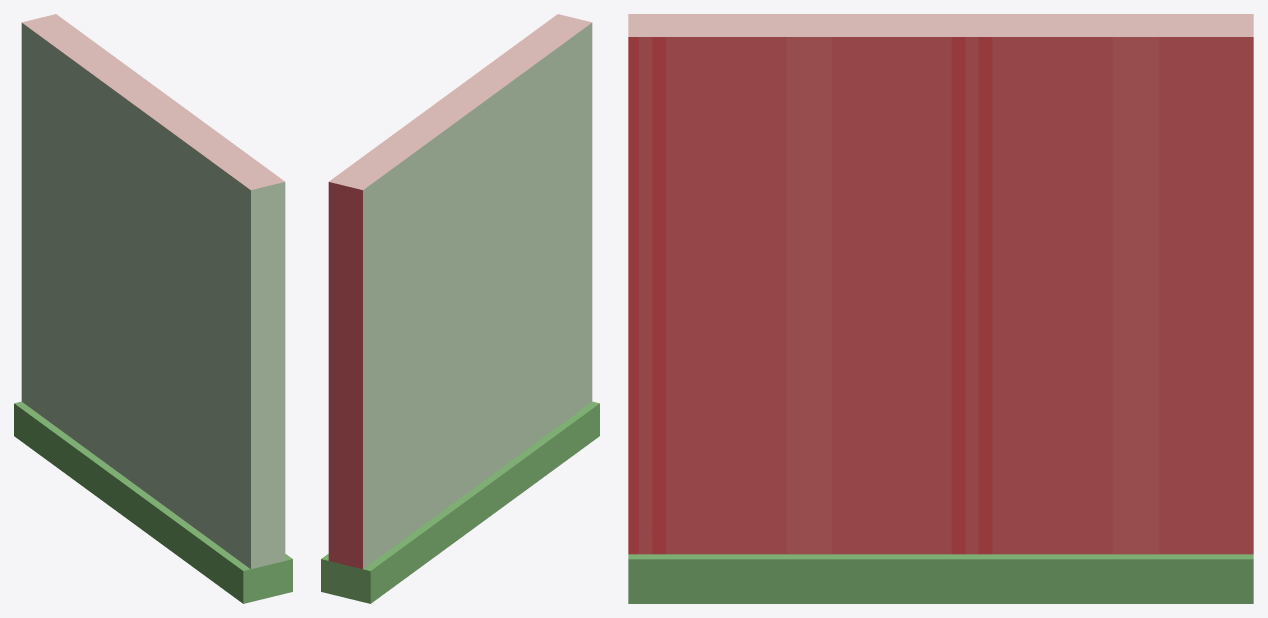
The model's file is Storage01_Wall_extra_001.fbx.
3 views of the same model, side by side, from view 1: azimuth 30°, elevation 25°; view 2: azimuth 150°, elevation 25°; view 3: azimuth 270°, elevation 25° (orthographic). The views are drawn at different scales.
Visible parts, largest first — view 1: Storage01_Wall_extra.001; view 2: Storage01_Wall_extra.001; view 3: Storage01_Wall_extra.001.
Boxes of the visible parts, x1,y1,x2,y2 form: Storage01_Wall_extra.001: (14,14,292,603); Storage01_Wall_extra.001: (321,14,599,603); Storage01_Wall_extra.001: (628,14,1253,603).
Size of the model in its own units: 0.2564 by 2.06 by 2.04.
